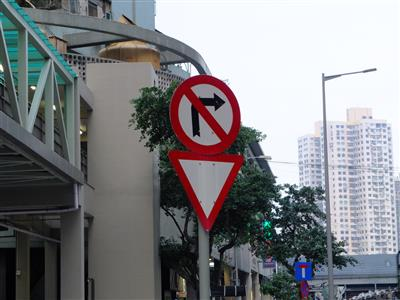deadEnd: (294, 260, 312, 280)
noRightTurn: (169, 73, 241, 155)
noStopping: (299, 279, 310, 297)
yield: (165, 148, 244, 232)
